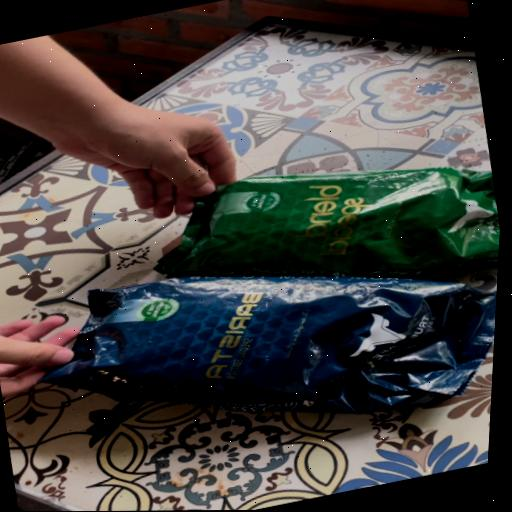cafe_hat: (45, 276, 497, 414)
cafe_xay: (157, 166, 500, 277)
